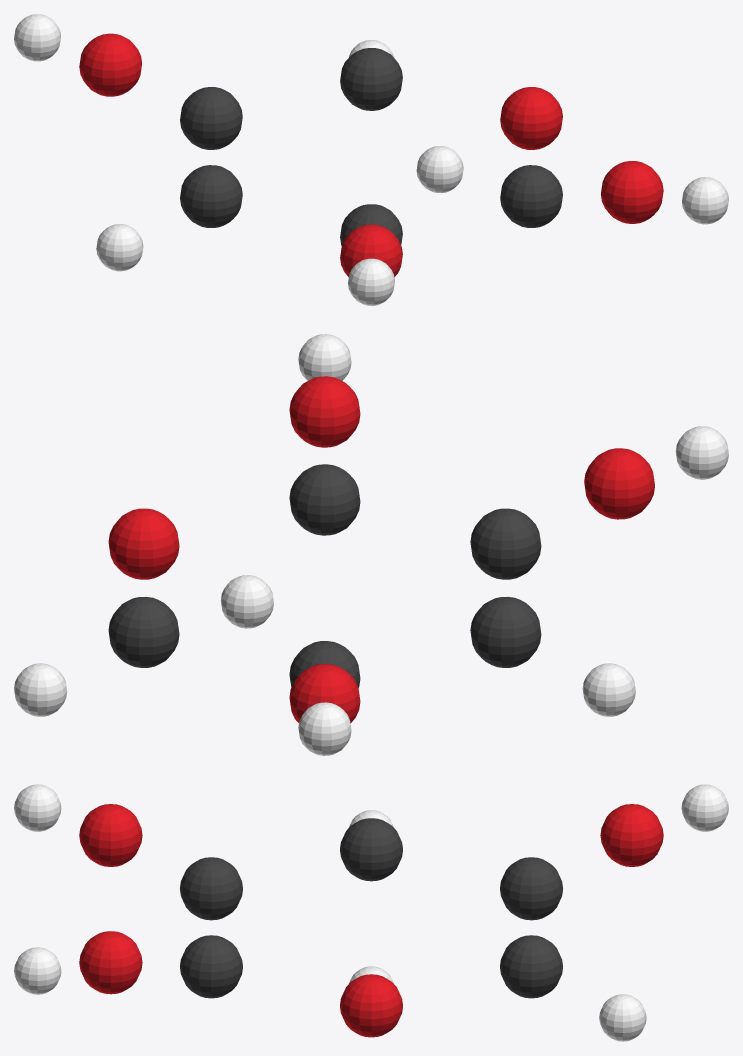
Rendered from sugar.obj.
The picture shows the model from 3 angles, top to bottom: view 1: azimuth 30°, elevation 25°; view 2: azimuth 150°, elevation 25°; view 3: azimuth 270°, elevation 25°; orthographic projection. The views are drawn at different scales.
Bounding box in the file's own units: 1.01 × 0.23 × 1.35.
